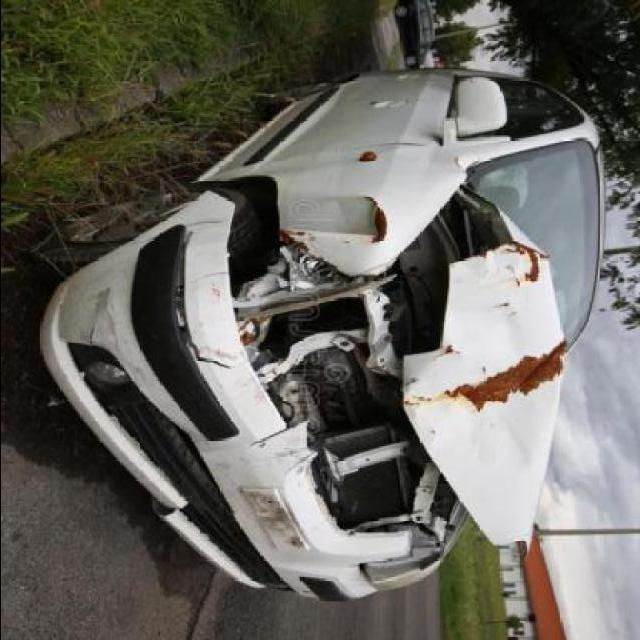bonnet-dent: (408, 191, 572, 564)
fender-dent: (196, 145, 457, 265)
front-bumper-dent: (42, 182, 315, 635)
